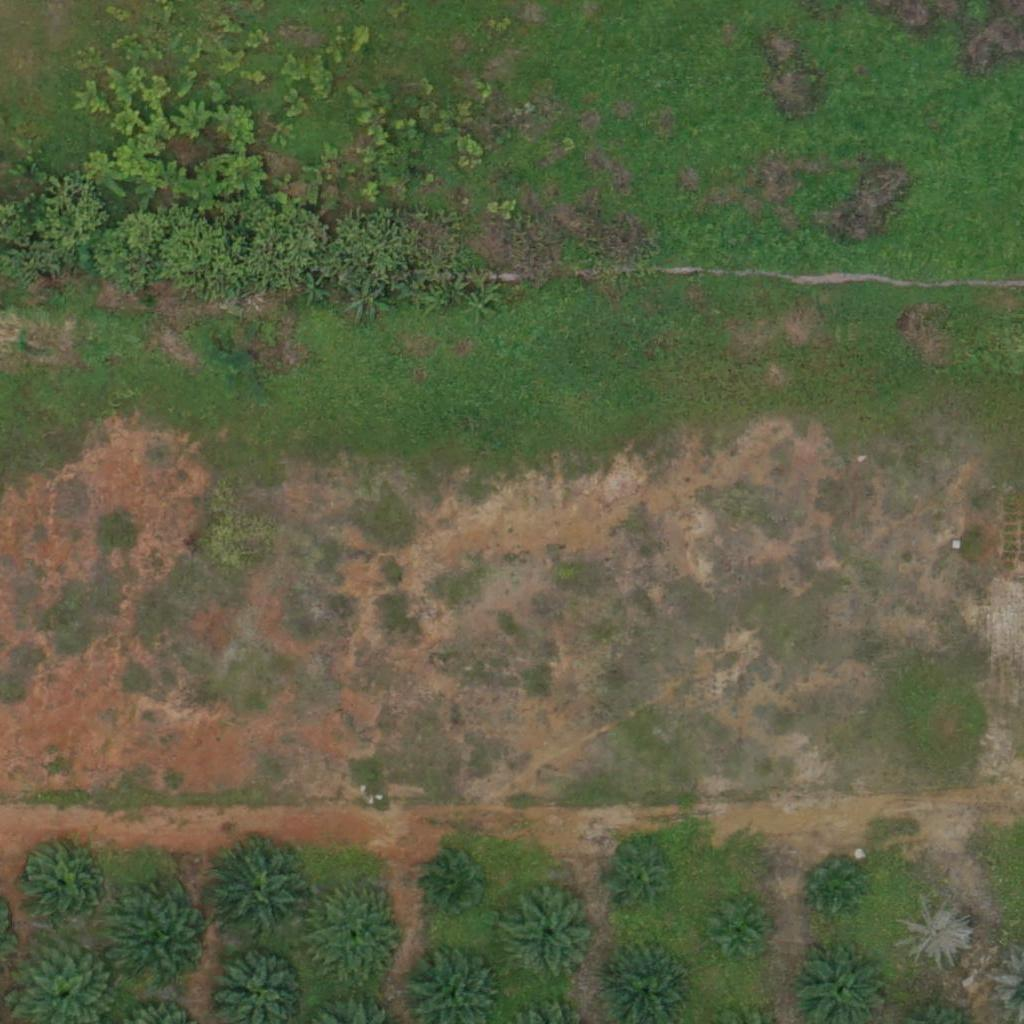Kelapa_Sawit: (205, 836, 317, 949), (113, 891, 213, 992), (307, 888, 407, 989), (500, 884, 600, 985), (17, 839, 104, 927), (898, 895, 973, 971), (609, 847, 672, 910), (706, 894, 769, 957), (426, 849, 489, 912), (802, 855, 864, 917)
